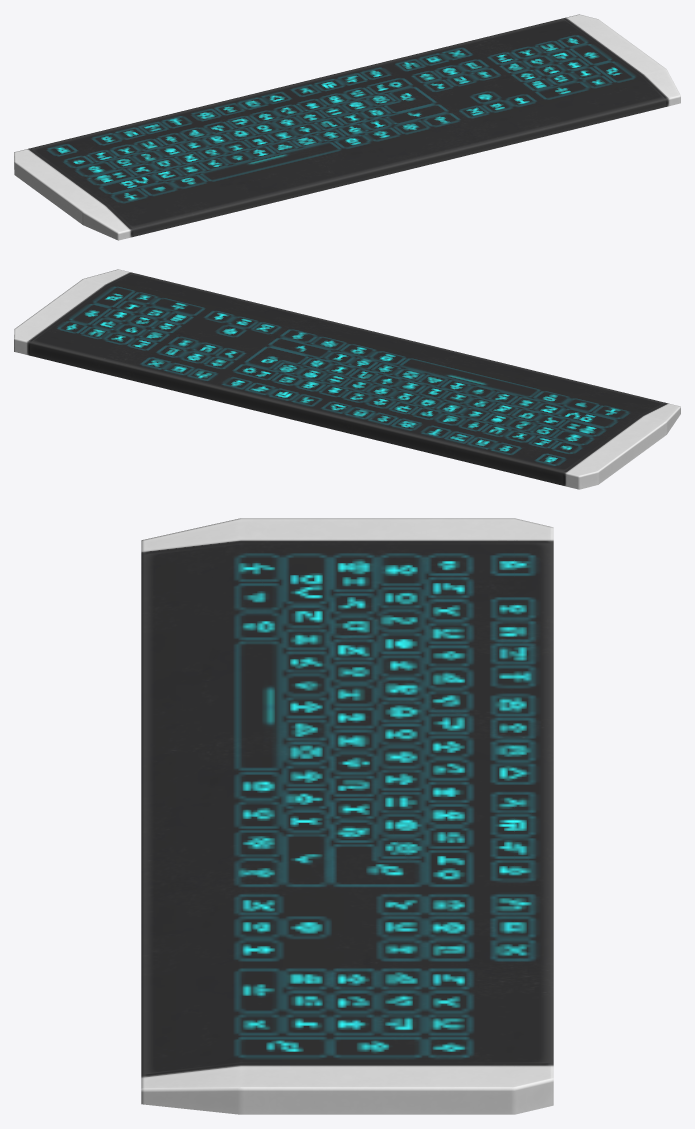
Rendered from Display05_3.FBX.
3 views of the same model, one above another, from view 1: azimuth 30°, elevation 25°; view 2: azimuth 150°, elevation 25°; view 3: azimuth 270°, elevation 25° (orthographic). The views are drawn at different scales.
Parts seen in each view (by area): view 1: Display05_3; view 2: Display05_3; view 3: Display05_3.
Boxes of the visible parts, <box> form: Display05_3: <box>14,14,680,240</box>; Display05_3: <box>14,269,680,489</box>; Display05_3: <box>141,518,553,1114</box>.
Size of what is drawn, in the model's own units: 0.6444 by 0.014 by 0.1969.
